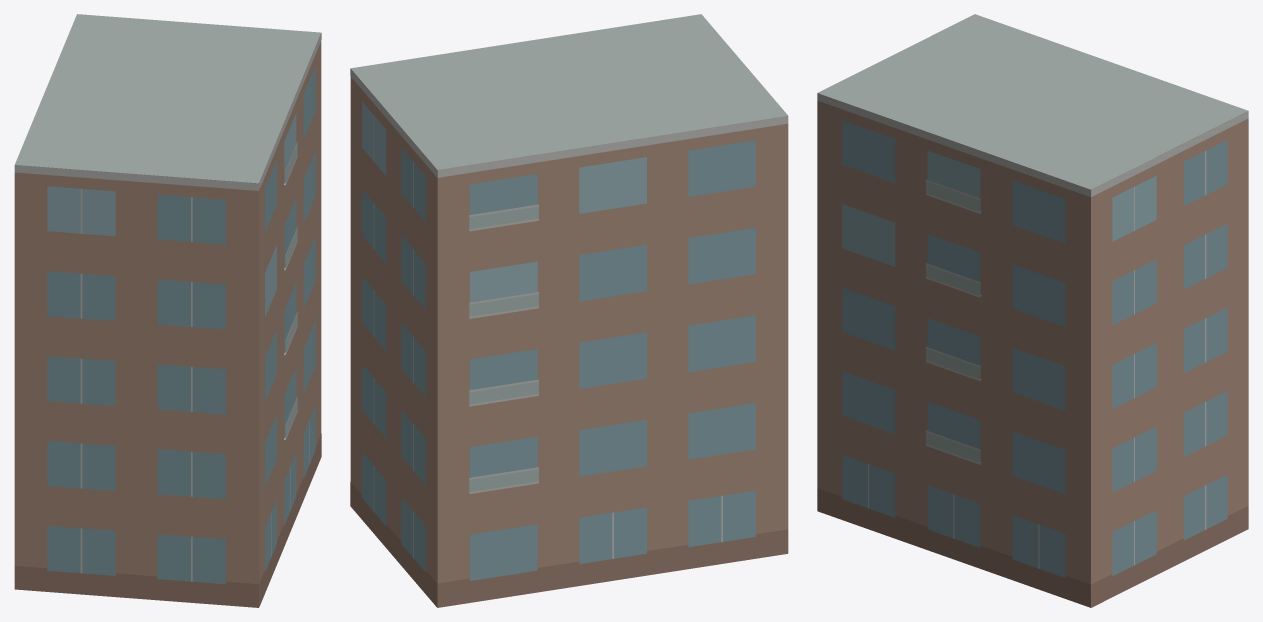
File: survey-upis-32718366.glb
3 views of the same model, side by side, from view 1: azimuth 30°, elevation 25°; view 2: azimuth 150°, elevation 25°; view 3: azimuth 270°, elevation 25° (orthographic). The views are drawn at different scales.
Parts seen in each view (by area): view 1: survey-upis-32718366.tmp; view 2: survey-upis-32718366.tmp; view 3: survey-upis-32718366.tmp.
Part boxes in pixels (<box>): survey-upis-32718366.tmp: <box>14,14,321,607</box>; survey-upis-32718366.tmp: <box>350,14,788,607</box>; survey-upis-32718366.tmp: <box>817,14,1248,607</box>.
Size of the model in its own units: 12.27 by 13.6 by 12.72.
